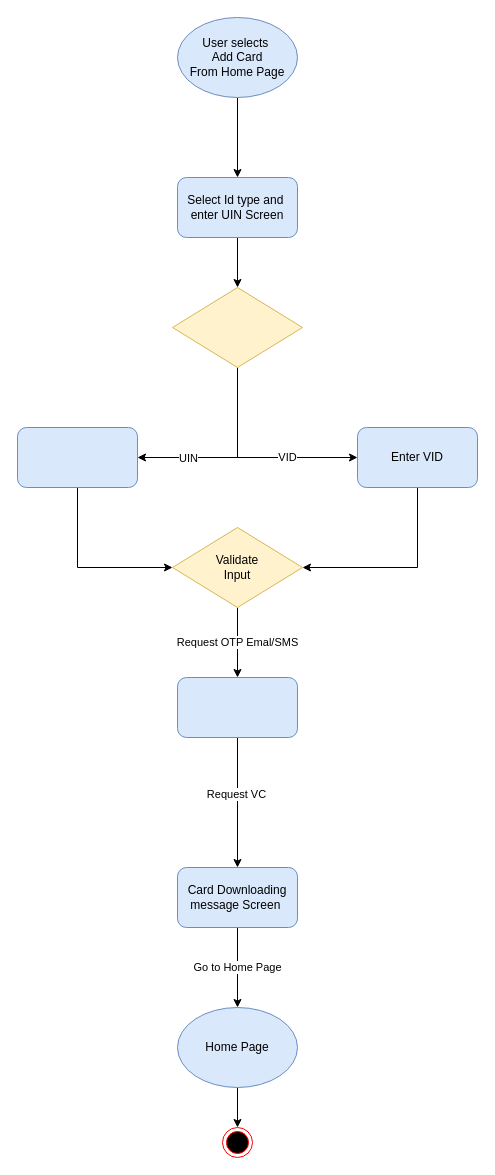
Image size: 495x1175. Some labels were removed from this diagram. The shapes that lost their labels are listed below. From the top down, each one's centre as x and y in pixels, then its label:
pixel 237 327: Select ID type
pixel 77 457: Enter UIN
pixel 237 707: Enter OTP Screen
